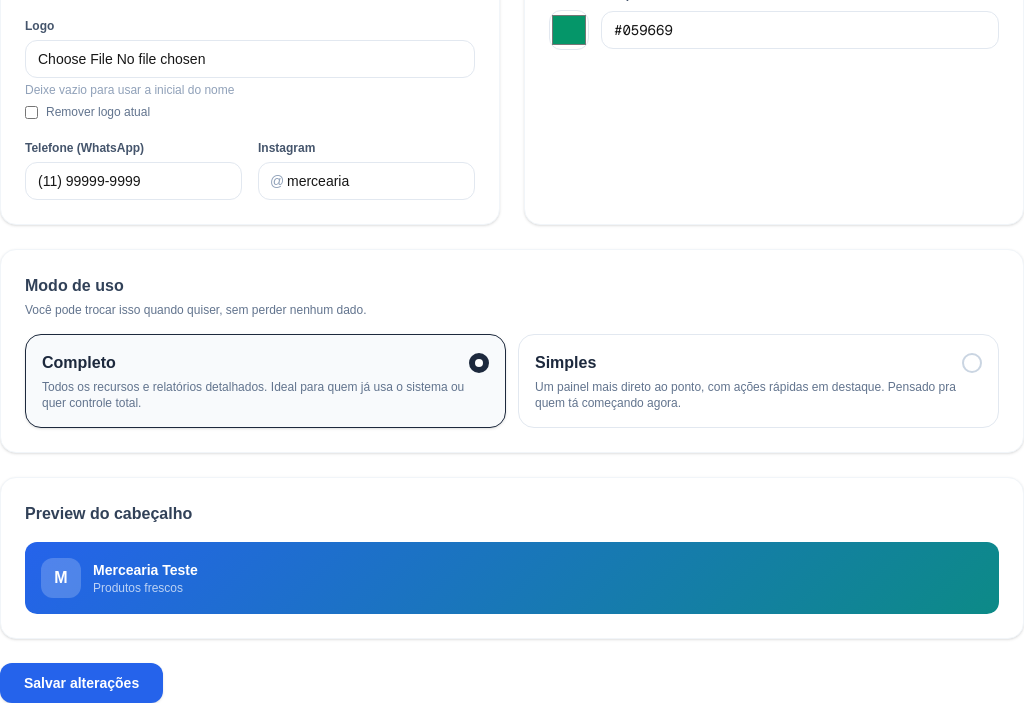
Test case: MarcaForm › exibe 'Salvo!' no botão após salvar com sucesso
(page scrolled)
Click the button "Salvar alterações" at (82, 683), box [0,663,163,702]
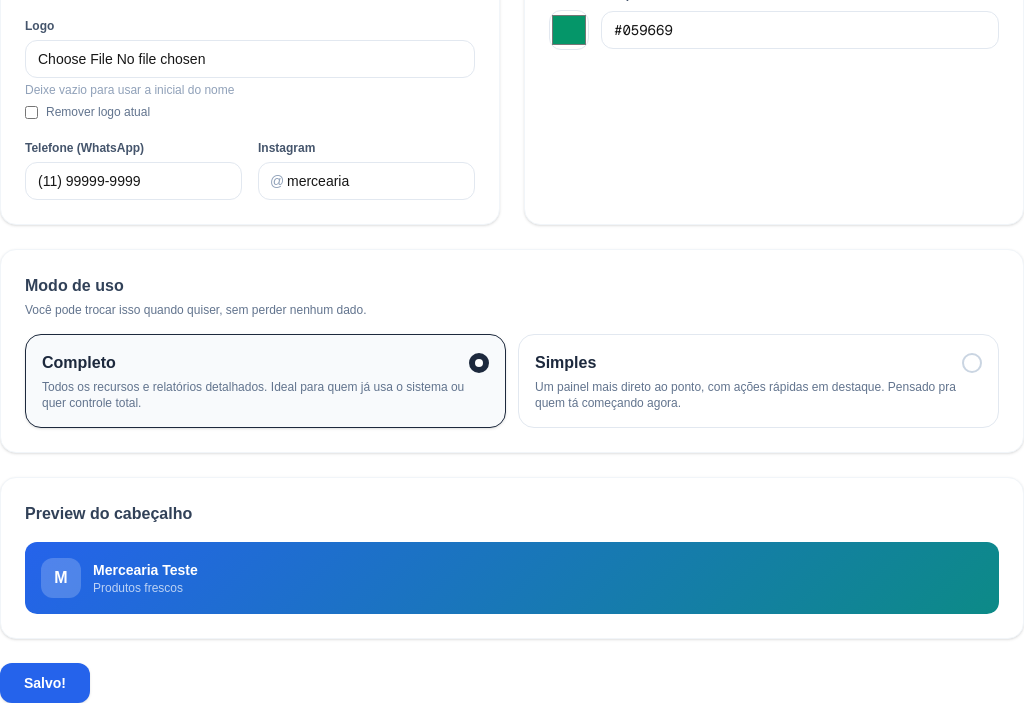
Result: the button "Salvo!" is shown at [0,663,90,702]
